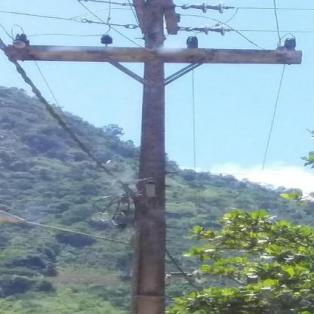Poste: (114, 0, 172, 314)
